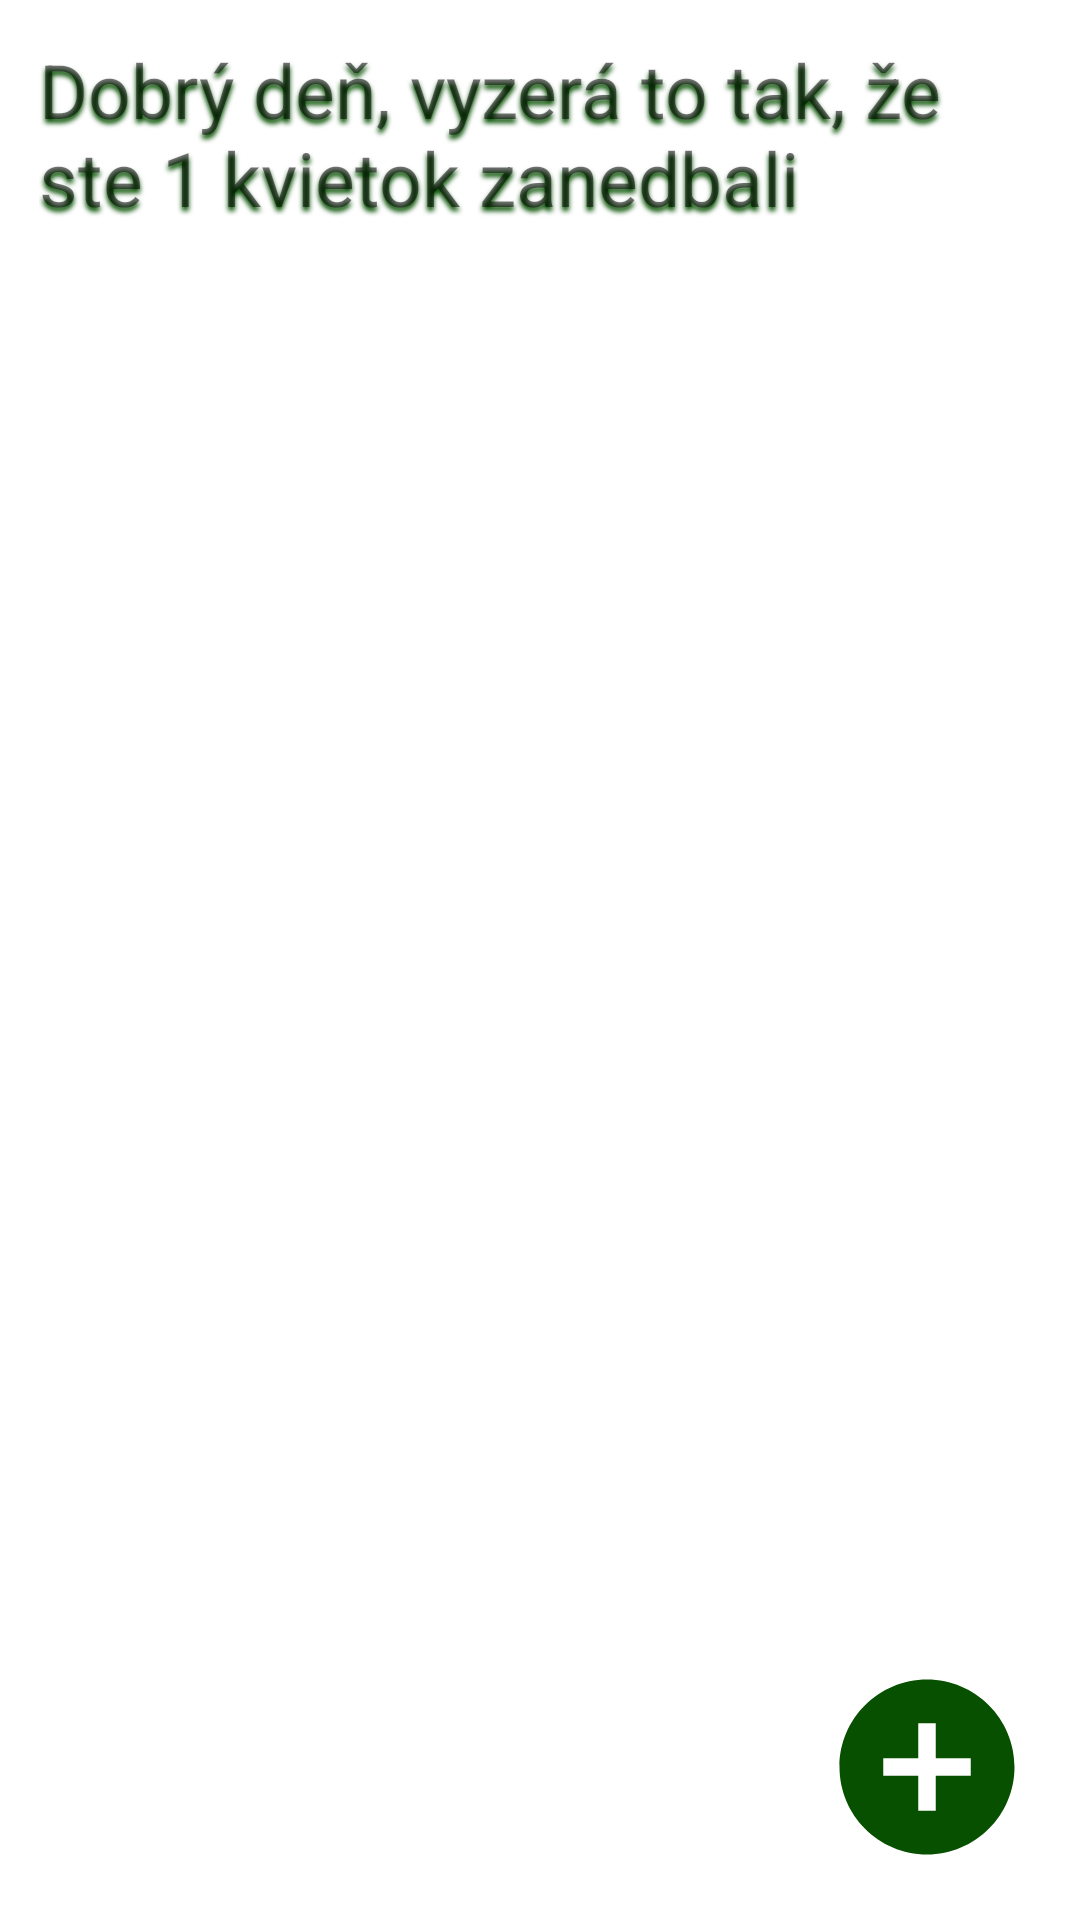

Named icons in this screenshot (1080 × 1920) and their centers, [x,y]:
add: [927,1767]
